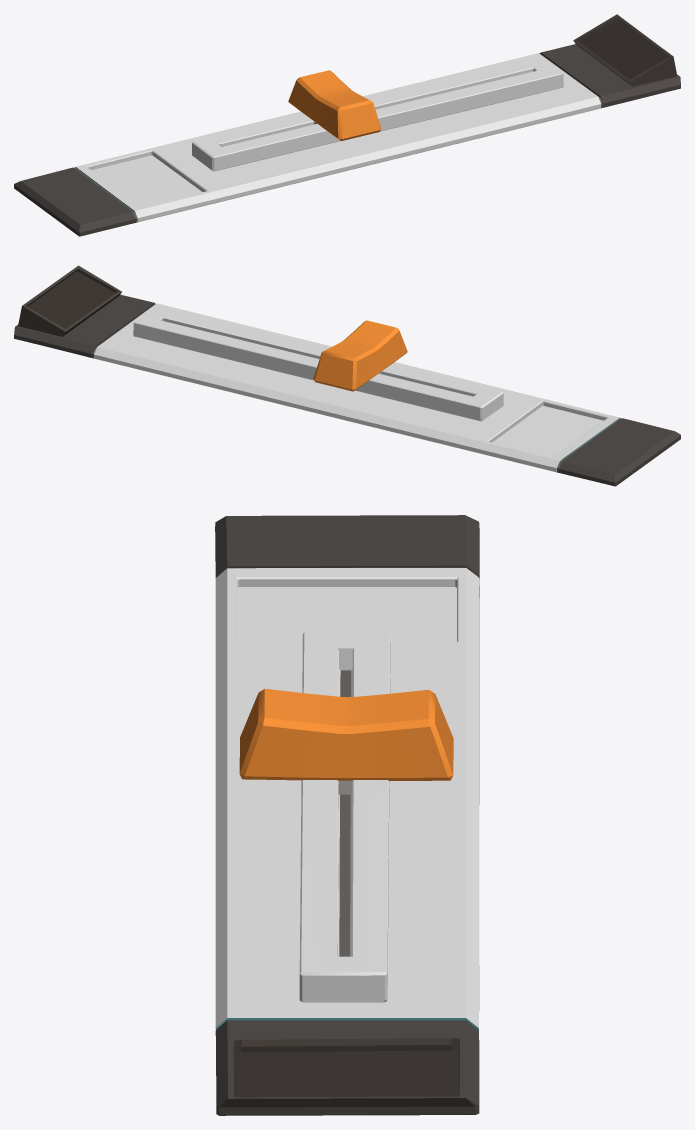
Rendered from Slider01_Light.fbx.
The picture shows the model from 3 angles, top to bottom: view 1: azimuth 30°, elevation 25°; view 2: azimuth 150°, elevation 25°; view 3: azimuth 270°, elevation 25°; orthographic projection. The views are drawn at different scales.
Parts seen in each view (by area): view 1: Slider_BaseBar_V2_Light, Slider_Knob_V2; view 2: Slider_BaseBar_V2_Light, Slider_Knob_V2; view 3: Slider_BaseBar_V2_Light, Slider_Knob_V2.
Boxes of the visible parts, x1,y1,x2,y2 form: Slider_BaseBar_V2_Light: (14, 14, 680, 236); Slider_Knob_V2: (288, 70, 381, 141); Slider_BaseBar_V2_Light: (14, 265, 680, 486); Slider_Knob_V2: (313, 320, 407, 391); Slider_BaseBar_V2_Light: (215, 515, 479, 1115); Slider_Knob_V2: (239, 688, 453, 794).
Size of the model in its own units: 0.483 by 0.0415 by 0.0917.
